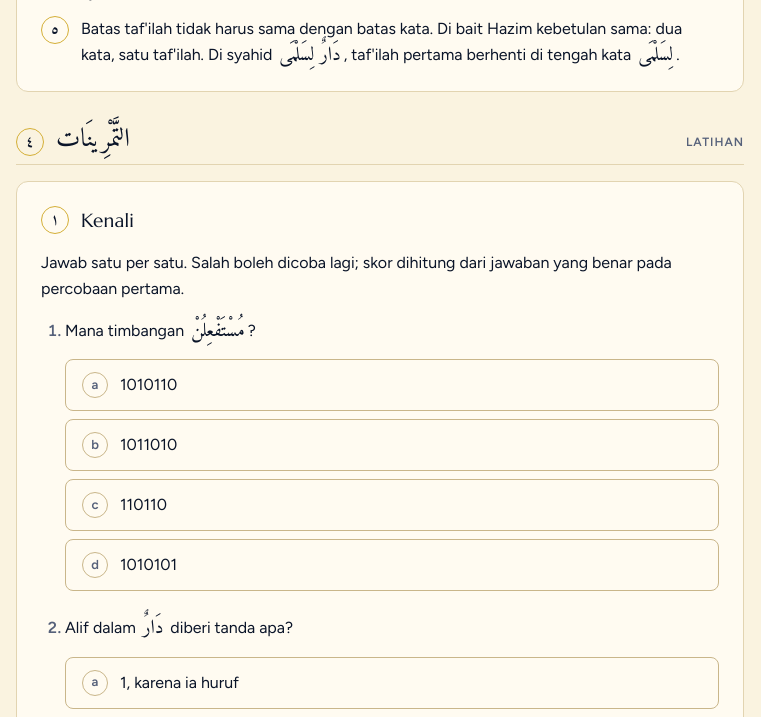
Test: pelajaran 1: peragaan lalu giliran › pilihan ganda: salah boleh dicoba lagi, benar membuka alasannya
(page scrolled)
Click the button "b 1011010" at (149, 445), box [65, 419, 719, 471]
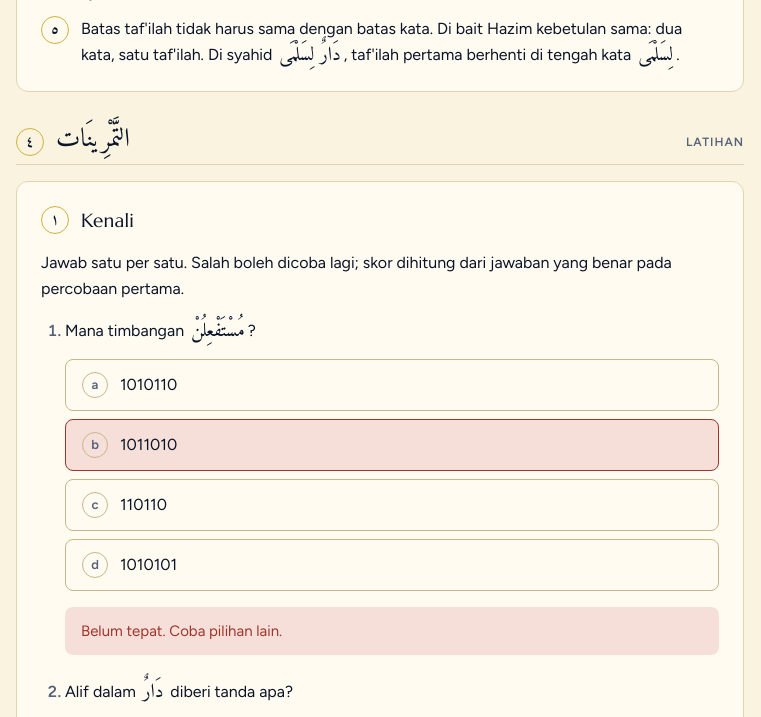
Expected: the text "Belum tepat. Coba pilihan lain." is shown, [65, 607, 719, 655]
Click the button "a 1010110" at (149, 385), box [65, 359, 719, 411]
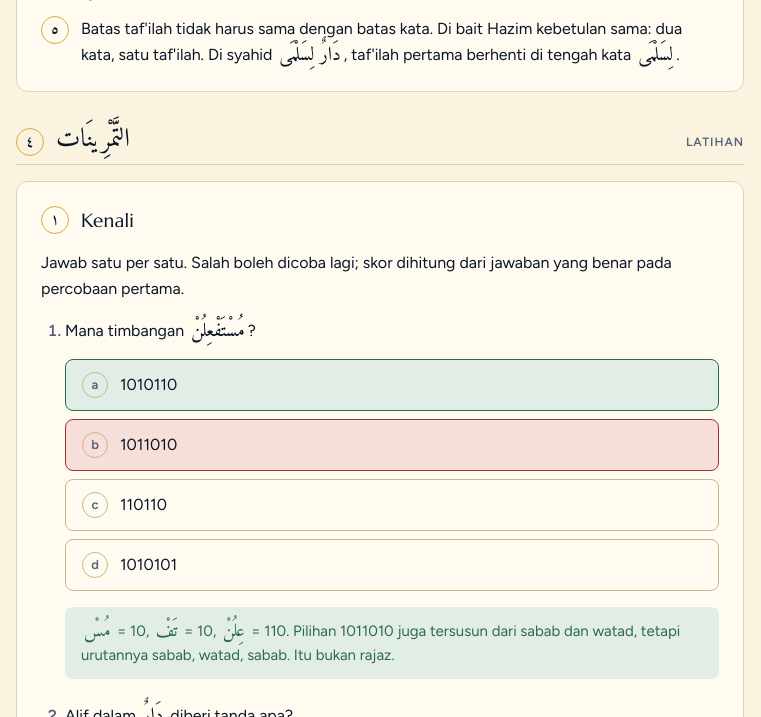
Expected: the text "مُسْ = 10, تَفْ = 10" is shown, [65, 607, 719, 679]
